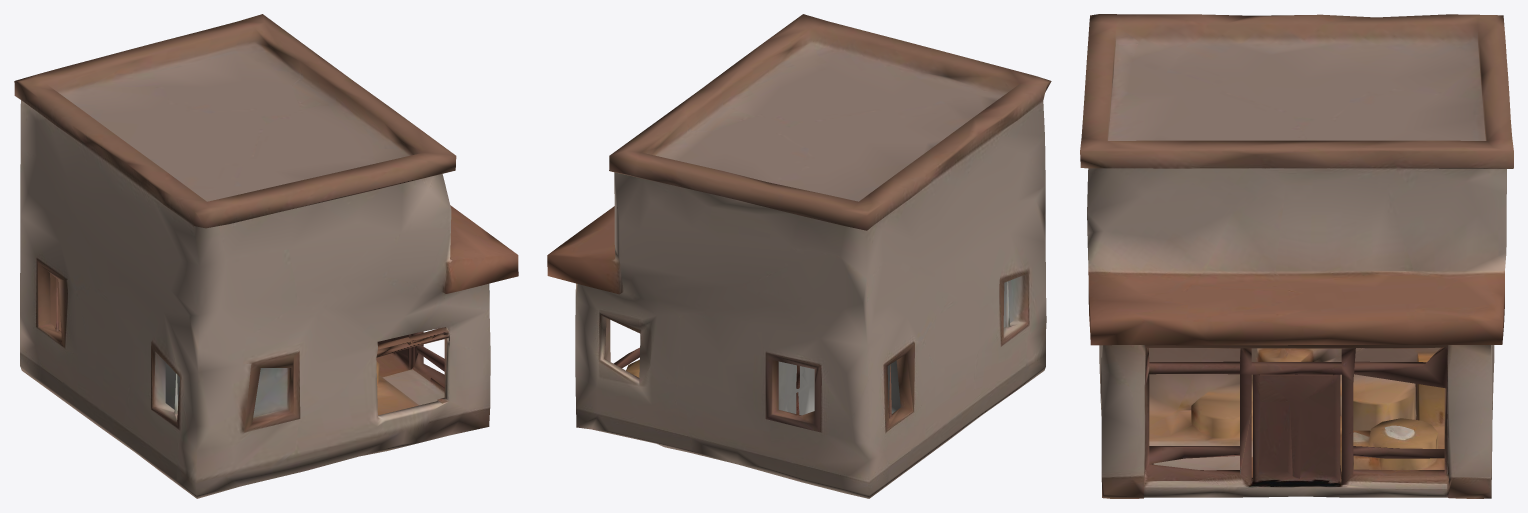
Rendered from corner-cafe.glb.
3 views of the same model, side by side, from view 1: azimuth 30°, elevation 25°; view 2: azimuth 150°, elevation 25°; view 3: azimuth 270°, elevation 25° (orthographic). The views are drawn at different scales.
Visible parts, largest first — view 1: tripo_node_936b4235-2e3b-4645-972e-bab73fb33fbb; view 2: tripo_node_936b4235-2e3b-4645-972e-bab73fb33fbb; view 3: tripo_node_936b4235-2e3b-4645-972e-bab73fb33fbb.
Part boxes in pixels (x1=…): tripo_node_936b4235-2e3b-4645-972e-bab73fb33fbb: x1=14, y1=14, x2=518, y2=498; tripo_node_936b4235-2e3b-4645-972e-bab73fb33fbb: x1=547, y1=14, x2=1051, y2=498; tripo_node_936b4235-2e3b-4645-972e-bab73fb33fbb: x1=1080, y1=14, x2=1513, y2=498.
Bounding box in the file's own units: 0.9539 × 0.8242 × 1.
Materials: 1 (1 with a texture image).
